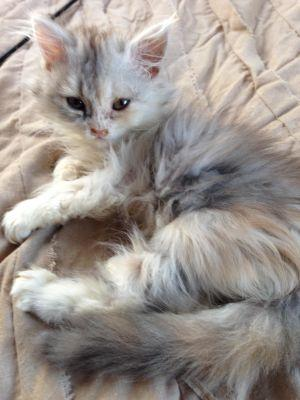persian: (22, 5, 183, 161)
